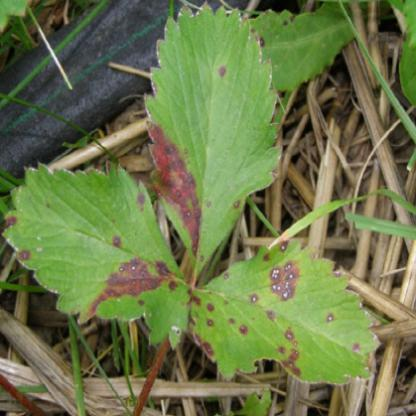Strawberry_Leaf_Spot: (141, 0, 284, 282), (0, 158, 190, 352), (189, 238, 385, 386)
